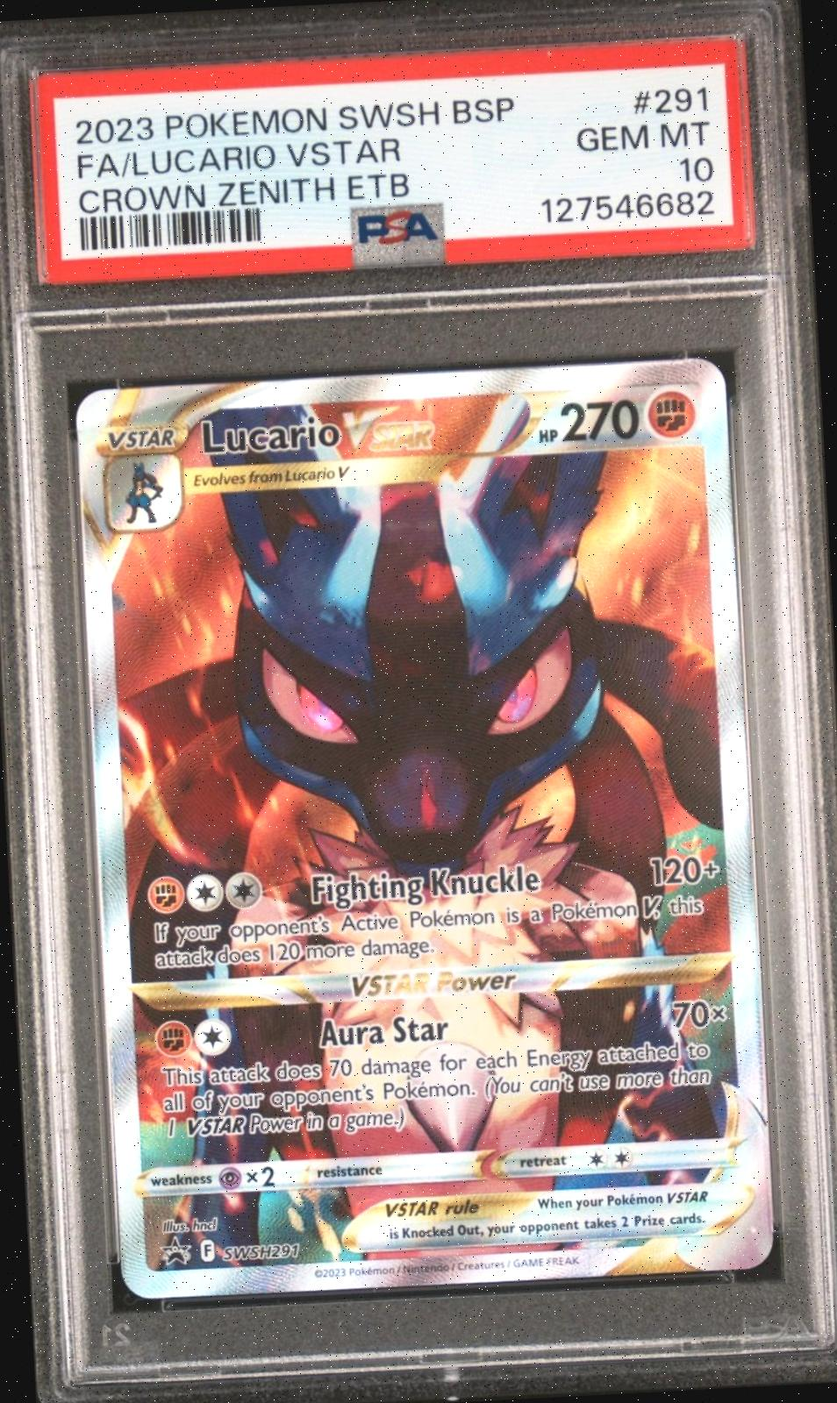card-2UtV: (75, 356, 774, 1299)
